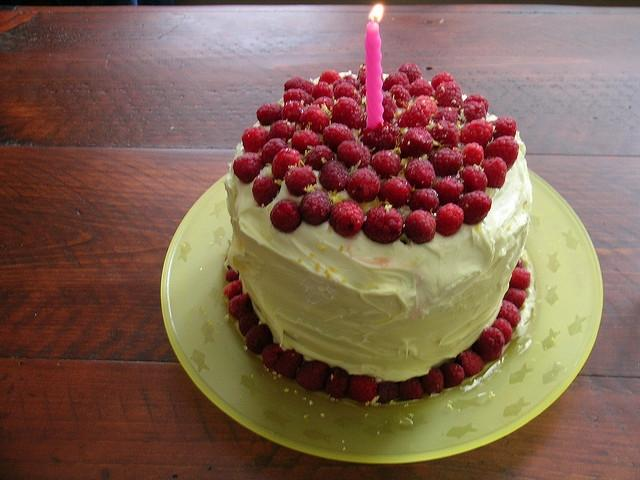raspberry: (362, 204, 404, 244), (358, 121, 401, 156), (299, 184, 332, 226), (328, 199, 364, 237), (483, 136, 519, 171), (457, 190, 492, 226), (331, 96, 367, 130), (346, 168, 381, 202), (285, 160, 317, 197), (403, 210, 436, 244), (295, 360, 332, 390), (270, 199, 302, 233), (322, 122, 356, 154), (404, 158, 436, 190), (233, 152, 265, 184), (336, 140, 370, 170), (378, 178, 412, 208), (477, 326, 505, 362), (299, 103, 332, 133), (401, 128, 434, 158), (429, 120, 459, 153), (435, 202, 464, 236), (427, 148, 462, 176), (458, 162, 488, 194), (460, 119, 494, 147), (432, 176, 463, 206), (371, 150, 404, 178), (274, 349, 304, 379), (319, 161, 349, 191), (272, 148, 300, 180), (252, 176, 281, 206), (480, 157, 508, 188), (245, 324, 273, 355), (397, 103, 431, 128), (454, 350, 484, 377), (462, 93, 489, 123), (409, 188, 440, 214), (434, 81, 463, 108), (304, 145, 335, 170), (326, 366, 350, 398), (292, 130, 324, 154), (242, 126, 270, 153), (262, 138, 288, 166), (269, 118, 297, 144), (497, 300, 522, 328), (228, 293, 254, 319), (256, 102, 284, 126), (332, 82, 361, 104), (351, 377, 376, 402), (408, 78, 434, 102), (492, 116, 518, 140), (460, 142, 484, 168), (284, 76, 315, 96), (382, 72, 411, 93), (491, 318, 513, 345), (398, 378, 422, 401), (442, 364, 464, 388), (282, 100, 304, 124), (504, 286, 526, 310), (262, 343, 283, 368), (424, 368, 444, 394), (412, 95, 438, 115), (390, 85, 412, 108), (376, 381, 399, 403), (238, 312, 259, 336), (398, 63, 422, 84), (510, 267, 530, 291), (284, 89, 314, 105), (432, 107, 458, 125), (431, 71, 454, 90), (222, 280, 242, 301), (312, 82, 335, 100), (318, 70, 341, 85), (382, 104, 396, 120), (226, 266, 240, 282), (357, 63, 366, 85), (346, 78, 359, 91)
